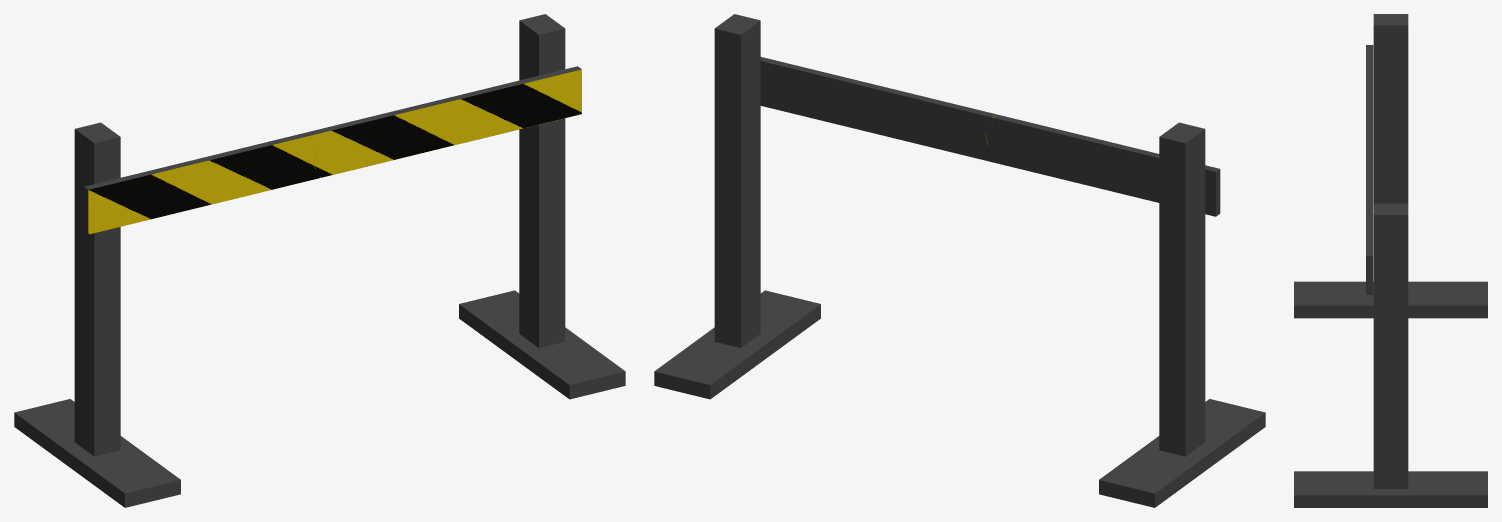
The model's file is Road Block Split.fbx.
3 views of the same model, side by side, from view 1: azimuth 30°, elevation 25°; view 2: azimuth 150°, elevation 25°; view 3: azimuth 270°, elevation 25° (orthographic). The views are drawn at different scales.
Parts seen in each view (by area): view 1: Rode Block Right, Road Block Left; view 2: Rode Block Right, Road Block Left; view 3: Rode Block Right, Road Block Left.
Part boxes in pixels (box(x1,y1,x2,y2)): Rode Block Right: box(307, 14, 625, 399); Road Block Left: box(14, 122, 320, 507); Rode Block Right: box(654, 14, 996, 399); Road Block Left: box(982, 114, 1265, 507); Rode Block Right: box(1294, 140, 1487, 507); Road Block Left: box(1294, 14, 1487, 318).
Bounding box in the file's own units: 200 × 125 × 76.51.
Materials: 2 (1 with a texture image).
